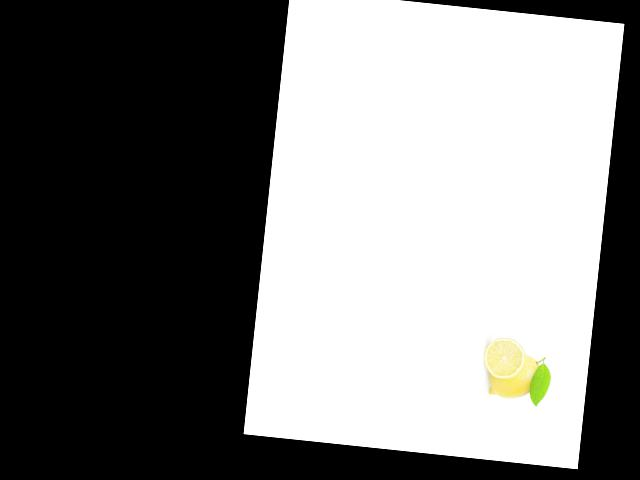lemon: (482, 347, 547, 406)
